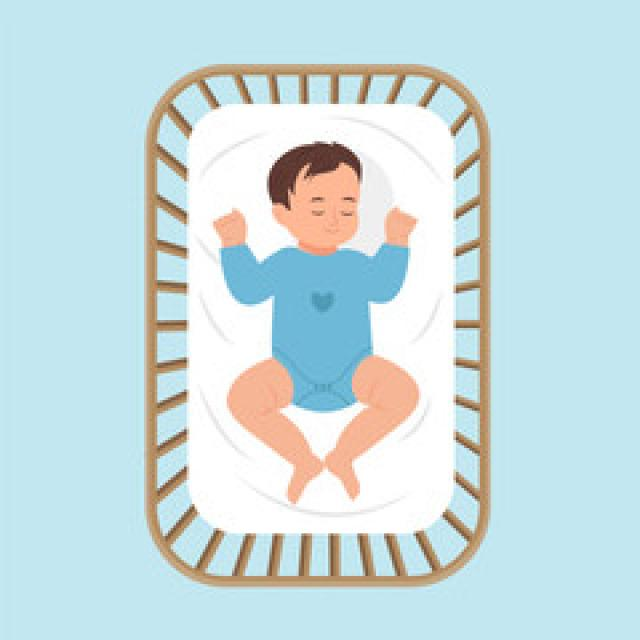crib: (142, 59, 494, 586)
